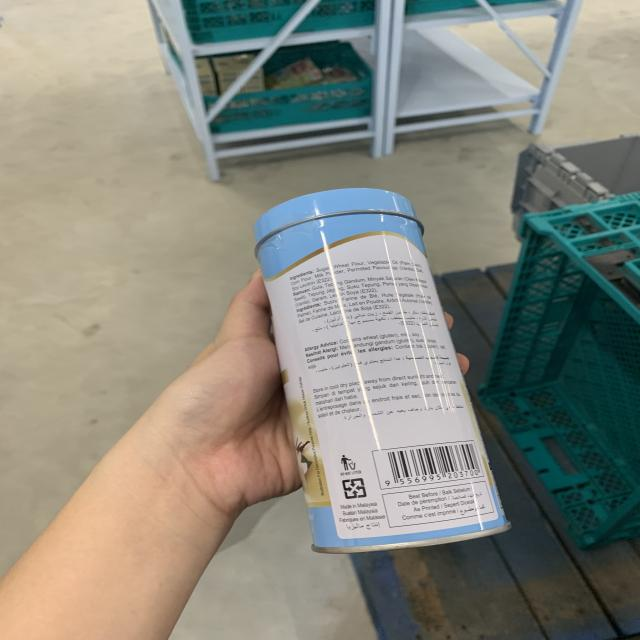object_name: (265, 222, 485, 541)
